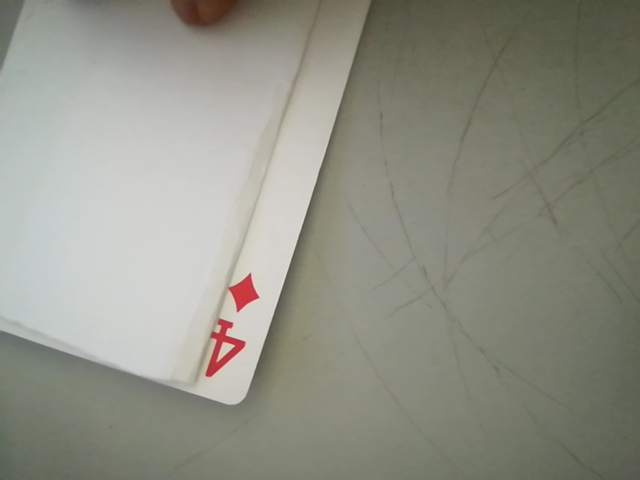fk 4: (187, 267, 269, 393)
